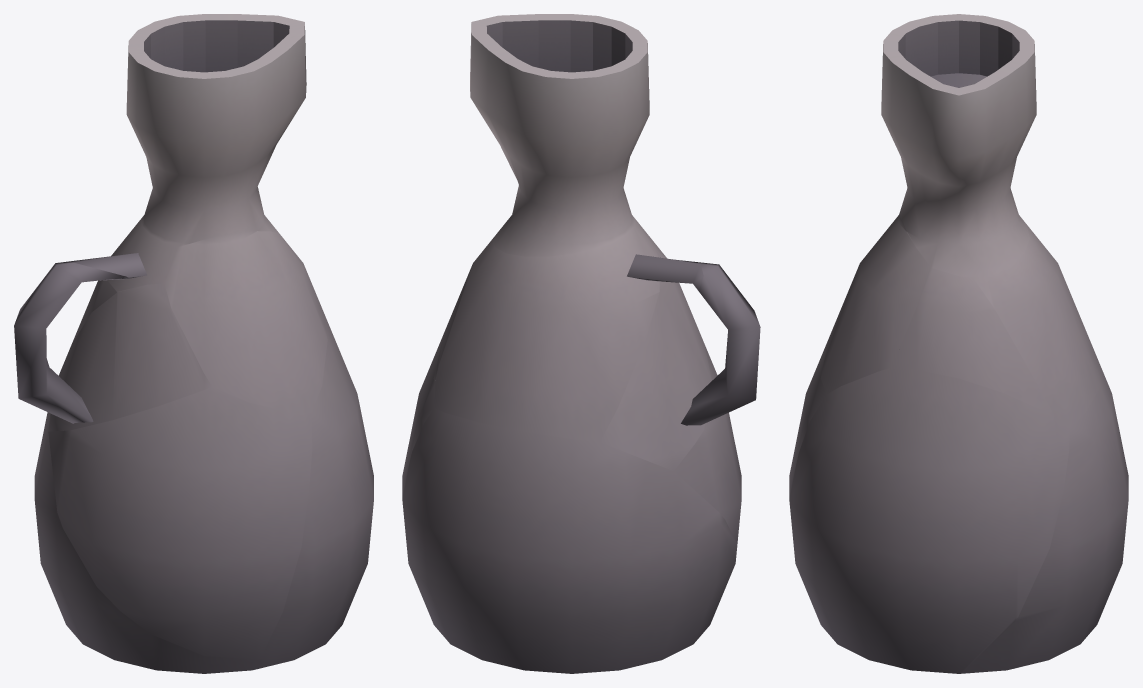
Rendered from M_carafe_fragments.FBX.
3 renders of one model, left to right at view 1: azimuth 30°, elevation 25°; view 2: azimuth 150°, elevation 25°; view 3: azimuth 270°, elevation 25°, orthographic.
Parts seen in each view (by area): view 1: Cylinder005_Part_8, Cylinder005_Part_5, Cylinder005_Part_2, Cylinder005_Part_3, Cylinder005_Part_6, Cylinder005_Part_4, Cylinder005_Part_1; view 2: Cylinder005_Part_4, Cylinder005_Part_1, Cylinder005_Part_5, Cylinder005_Part_3, Cylinder005_Part_8, Cylinder005_Part_6; view 3: Cylinder005_Part_6, Cylinder005_Part_5, Cylinder005_Part_4, Cylinder005_Part_1, Cylinder005_Part_7, Cylinder005_Part_2, Cylinder005_Part_8.
Boxes of the visible parts, left/top/right/bottom form: Cylinder005_Part_8: left=48, top=387, right=312, bottom=659; Cylinder005_Part_5: left=126, top=14, right=306, bottom=247; Cylinder005_Part_2: left=164, top=231, right=327, bottom=413; Cylinder005_Part_3: left=14, top=262, right=212, bottom=431; Cylinder005_Part_6: left=261, top=313, right=373, bottom=665; Cylinder005_Part_4: left=34, top=412, right=270, bottom=673; Cylinder005_Part_1: left=51, top=219, right=177, bottom=343; Cylinder005_Part_4: left=402, top=408, right=737, bottom=673; Cylinder005_Part_1: left=434, top=221, right=703, bottom=441; Cylinder005_Part_5: left=470, top=14, right=649, bottom=256; Cylinder005_Part_3: left=600, top=251, right=760, bottom=471; Cylinder005_Part_8: left=674, top=344, right=741, bottom=543; Cylinder005_Part_6: left=402, top=333, right=443, bottom=490; Cylinder005_Part_6: left=789, top=368, right=1069, bottom=673; Cylinder005_Part_5: left=881, top=14, right=1036, bottom=277; Cylinder005_Part_4: left=962, top=365, right=1128, bottom=673; Cylinder005_Part_1: left=973, top=225, right=1100, bottom=427; Cylinder005_Part_7: left=891, top=267, right=1054, bottom=416; Cylinder005_Part_2: left=820, top=208, right=930, bottom=394; Cylinder005_Part_8: left=789, top=341, right=827, bottom=493.
Size of the model in its own units: 25.66 by 22.26 by 41.15.
